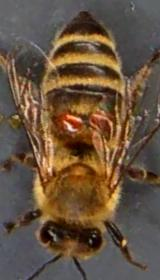varroa_mite: (54, 108, 83, 136)
